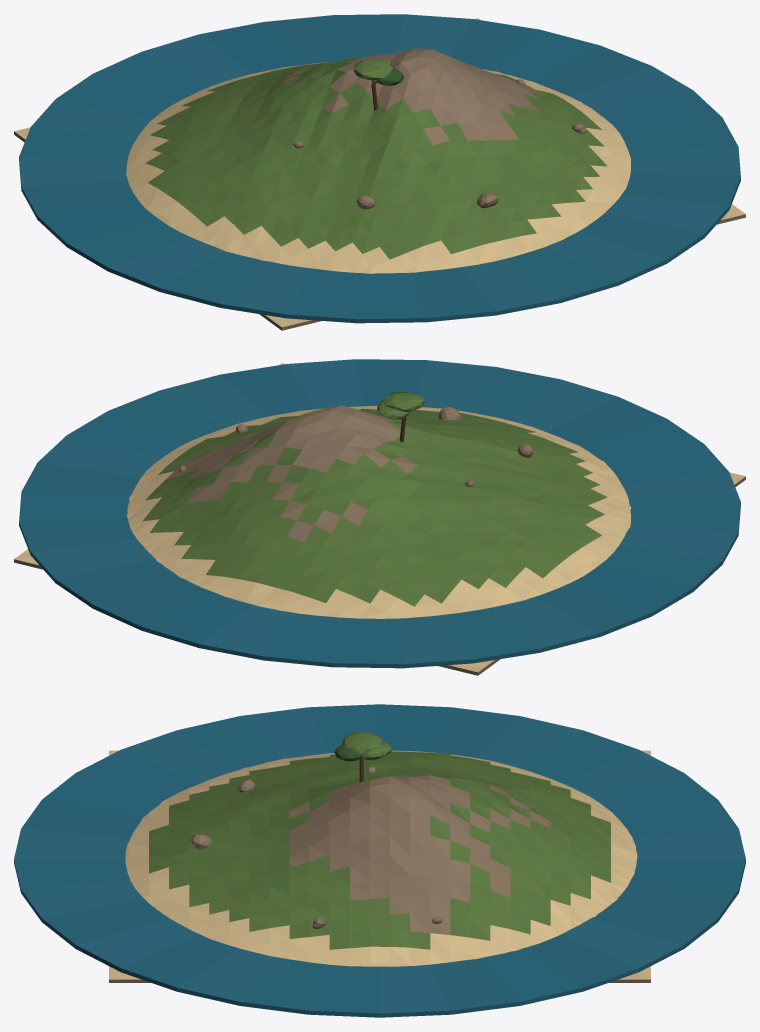
File: battle_royale_island.glb
3 renders of one model, top to bottom at view 1: azimuth 30°, elevation 25°; view 2: azimuth 150°, elevation 25°; view 3: azimuth 270°, elevation 25°, orthographic.
Visible parts, largest first — view 1: Water, Terrain_primary, Terrain_sand, Terrain_secondary, Rocks, Canopy_primary; view 2: Water, Terrain_primary, Terrain_sand, Terrain_secondary, Canopy_primary, Rocks; view 3: Water, Terrain_primary, Terrain_secondary, Terrain_sand, Canopy_primary, Rocks.
Boxes of the visible parts, box(x1,y1,x2,y2) form: Water: box(19, 14, 740, 323); Terrain_primary: box(145, 57, 607, 259); Terrain_sand: box(14, 18, 745, 327); Terrain_secondary: box(14, 48, 745, 330); Rocks: box(293, 79, 585, 209); Canopy_primary: box(353, 59, 393, 80); Water: box(19, 359, 740, 668); Terrain_primary: box(142, 408, 607, 606); Terrain_sand: box(14, 363, 745, 672); Terrain_secondary: box(14, 405, 745, 675); Canopy_primary: box(377, 393, 424, 419); Rocks: box(178, 407, 533, 486); Water: box(14, 704, 745, 1017); Terrain_primary: box(149, 751, 610, 949); Terrain_secondary: box(109, 775, 650, 982); Terrain_sand: box(109, 750, 650, 979); Canopy_primary: box(341, 732, 393, 760); Rocks: box(191, 766, 442, 928).
Bounding box in the file's own units: 48.6 × 9.06 × 48.6.
